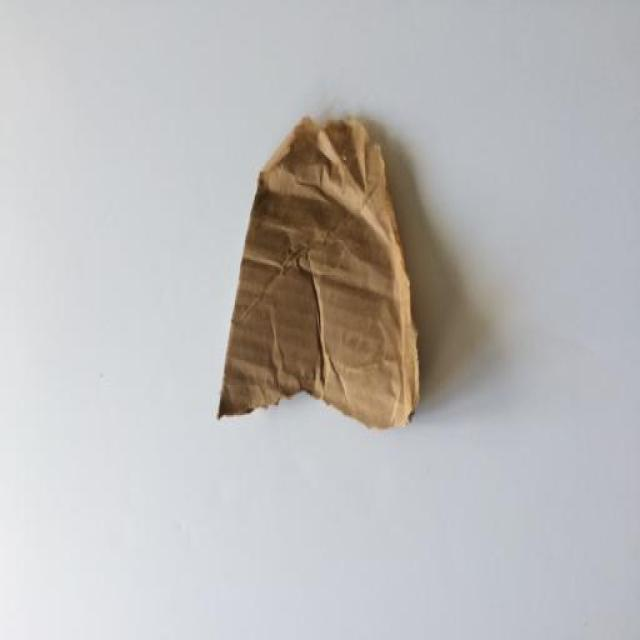cardboard: (216, 113, 421, 430)
